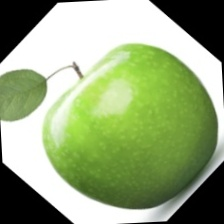apple: (0, 62, 195, 200)
